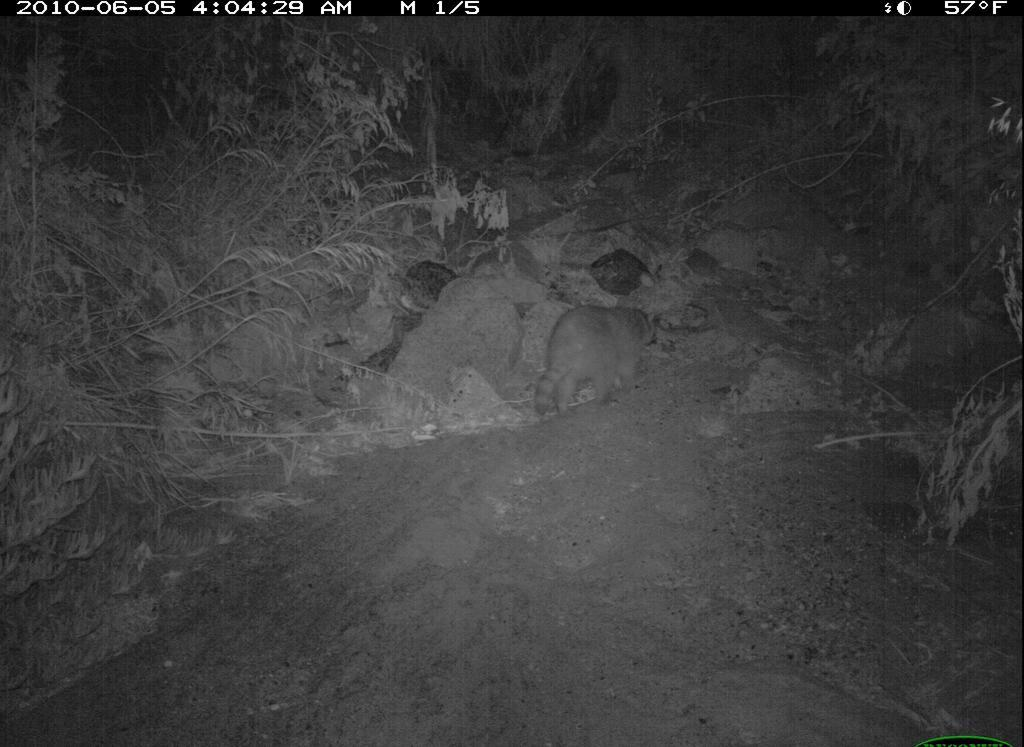raccoon: (511, 290, 676, 415)
